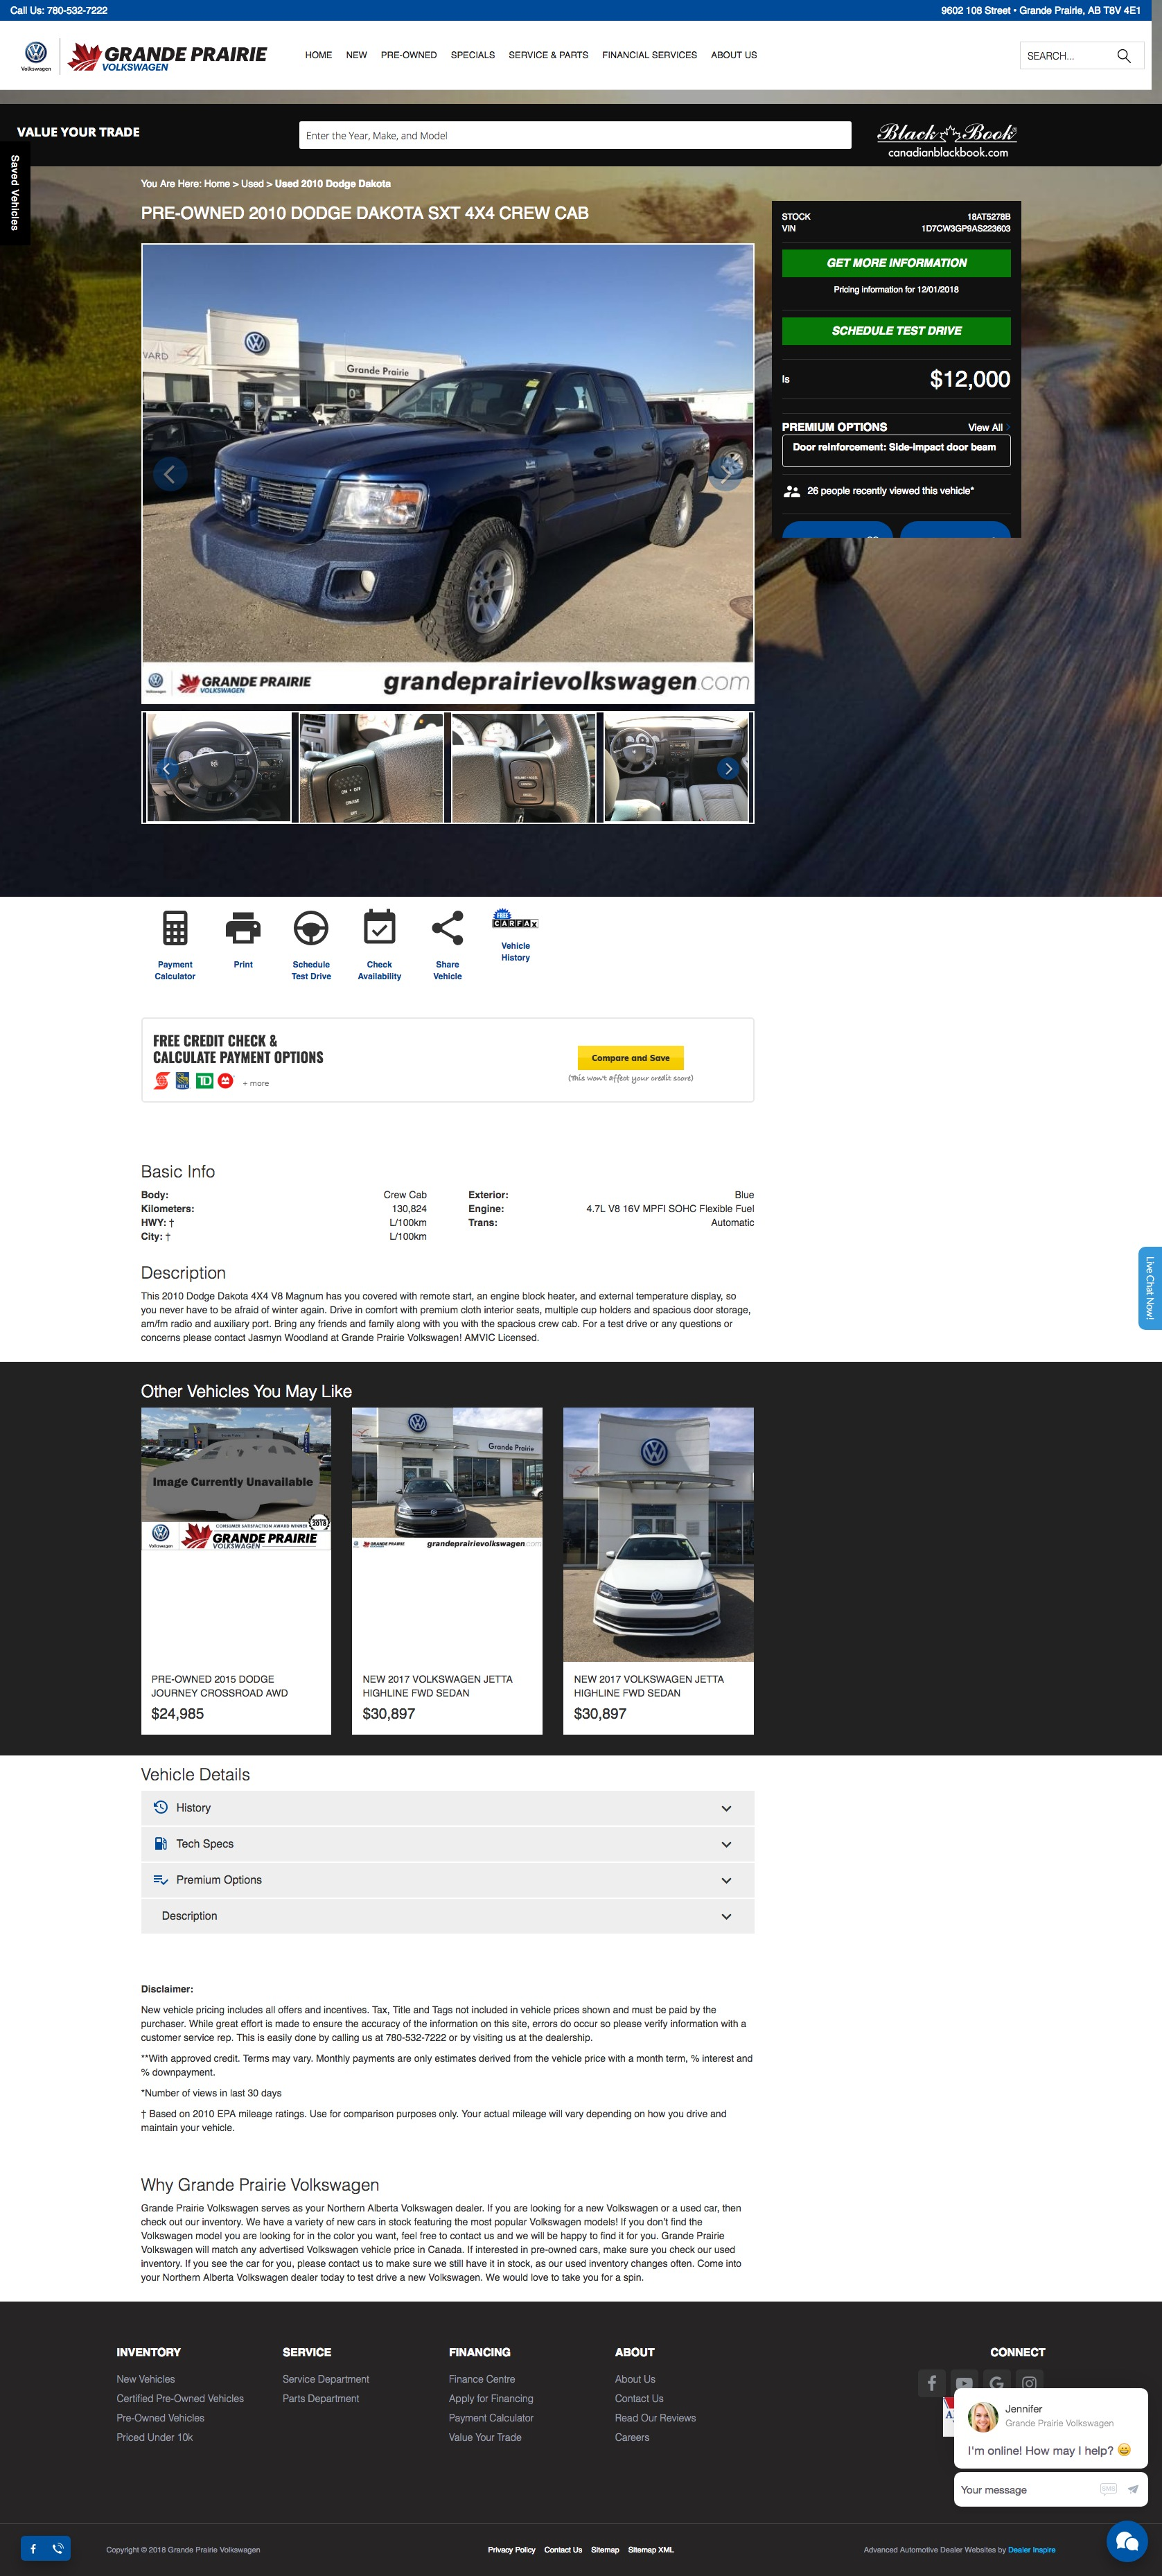car: (717, 757, 740, 780)
